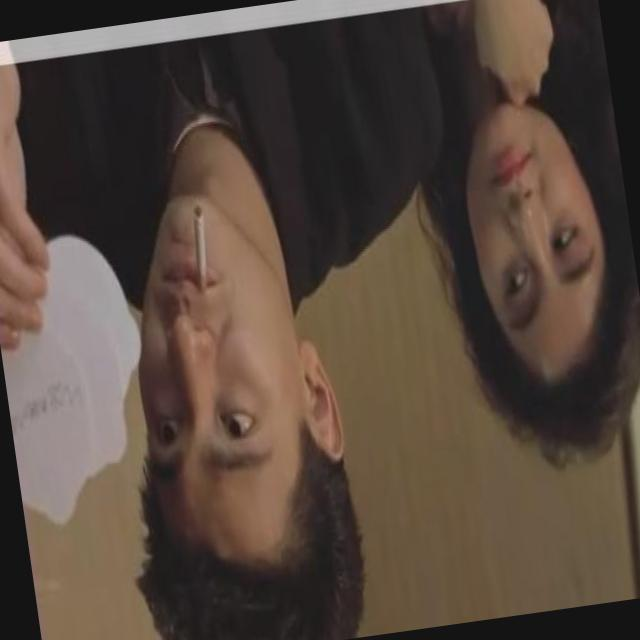cigarette: (183, 200, 218, 296)
